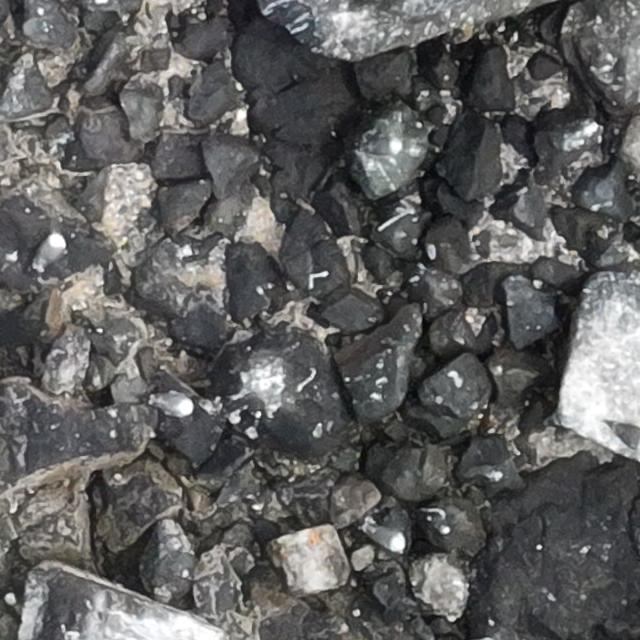umineko: (152, 393, 198, 418), (366, 527, 404, 551), (39, 232, 64, 264), (610, 425, 640, 450)
